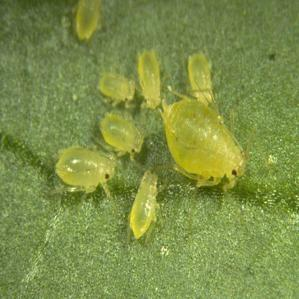Green peach aphid: (149, 99, 256, 192), (36, 136, 116, 199), (173, 46, 224, 114), (80, 108, 146, 157), (126, 48, 171, 113), (121, 179, 168, 241), (57, 0, 115, 45), (86, 64, 136, 109)
